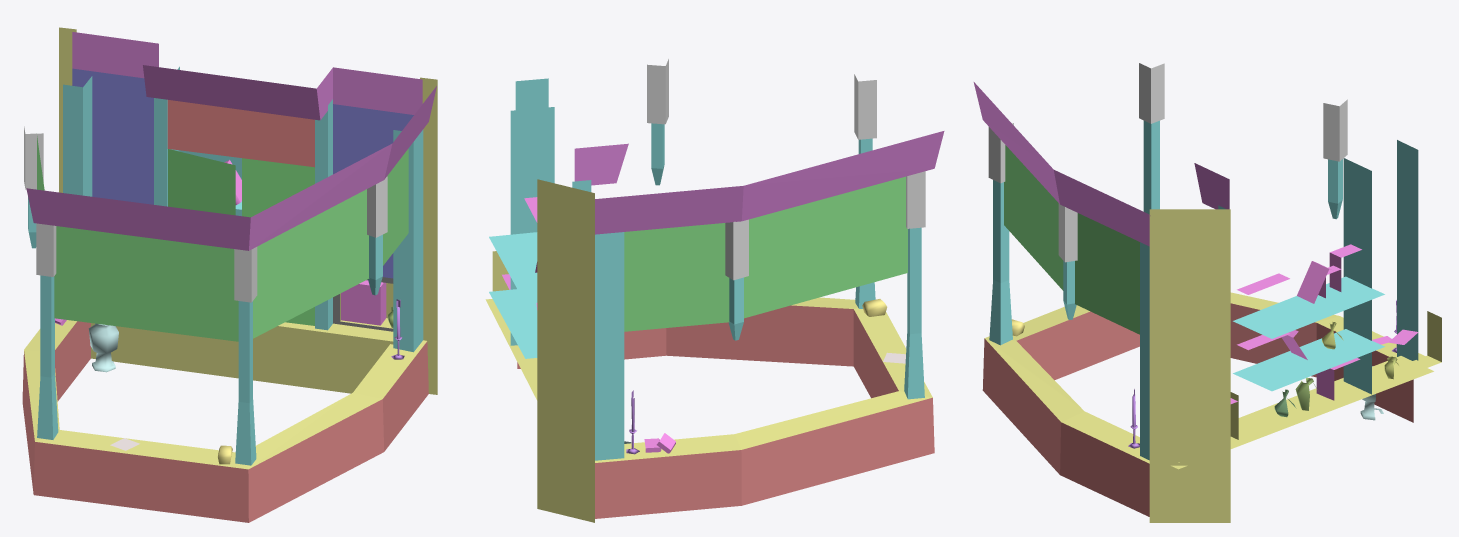
The model's file is interior_B_delf_store_03.gltf.
3 views of the same model, side by side, from view 1: azimuth 30°, elevation 25°; view 2: azimuth 150°, elevation 25°; view 3: azimuth 270°, elevation 25° (orthographic). The views are drawn at different scales.
Visible parts, largest first — view 1: interior_B_delf_store_03; view 2: interior_B_delf_store_03; view 3: interior_B_delf_store_03.
Boxes of the visible parts, x1,y1,x2,y2 form: interior_B_delf_store_03: (22, 27, 437, 522); interior_B_delf_store_03: (485, 59, 944, 522); interior_B_delf_store_03: (973, 63, 1441, 522).
Size of the model in its own units: 2.29 by 1.63 by 2.22.
